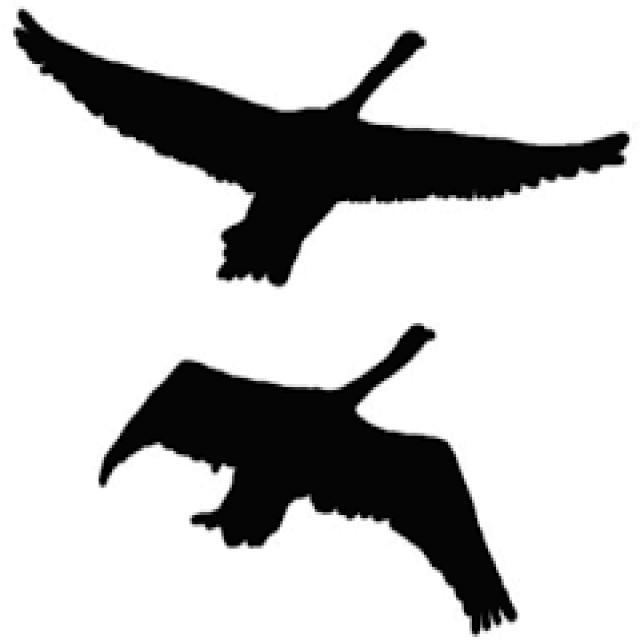bird: (8, 13, 640, 304), (70, 314, 558, 588)
